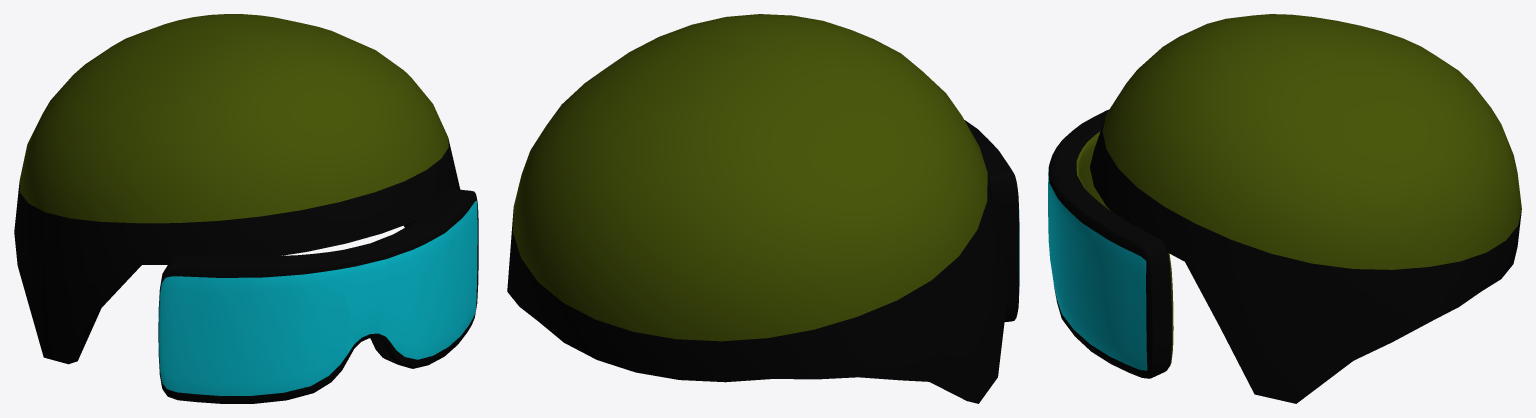
Rendered from helmet_and_eyeprotection.fbx.
3 views of the same model, side by side, from view 1: azimuth 30°, elevation 25°; view 2: azimuth 150°, elevation 25°; view 3: azimuth 270°, elevation 25° (orthographic). The views are drawn at different scales.
Parts seen in each view (by area): view 1: Helmet, EyeProtection; view 2: Helmet, EyeProtection; view 3: Helmet, EyeProtection.
Part boxes in pixels (x1,y1,x2,y2): Helmet: (14, 14, 460, 364); EyeProtection: (158, 189, 478, 403); Helmet: (507, 14, 1008, 403); EyeProtection: (964, 120, 1019, 321); Helmet: (1090, 14, 1521, 403); EyeProtection: (1048, 109, 1173, 378).
Bounding box in the file's own units: 2.21 × 1.45 × 2.31.
